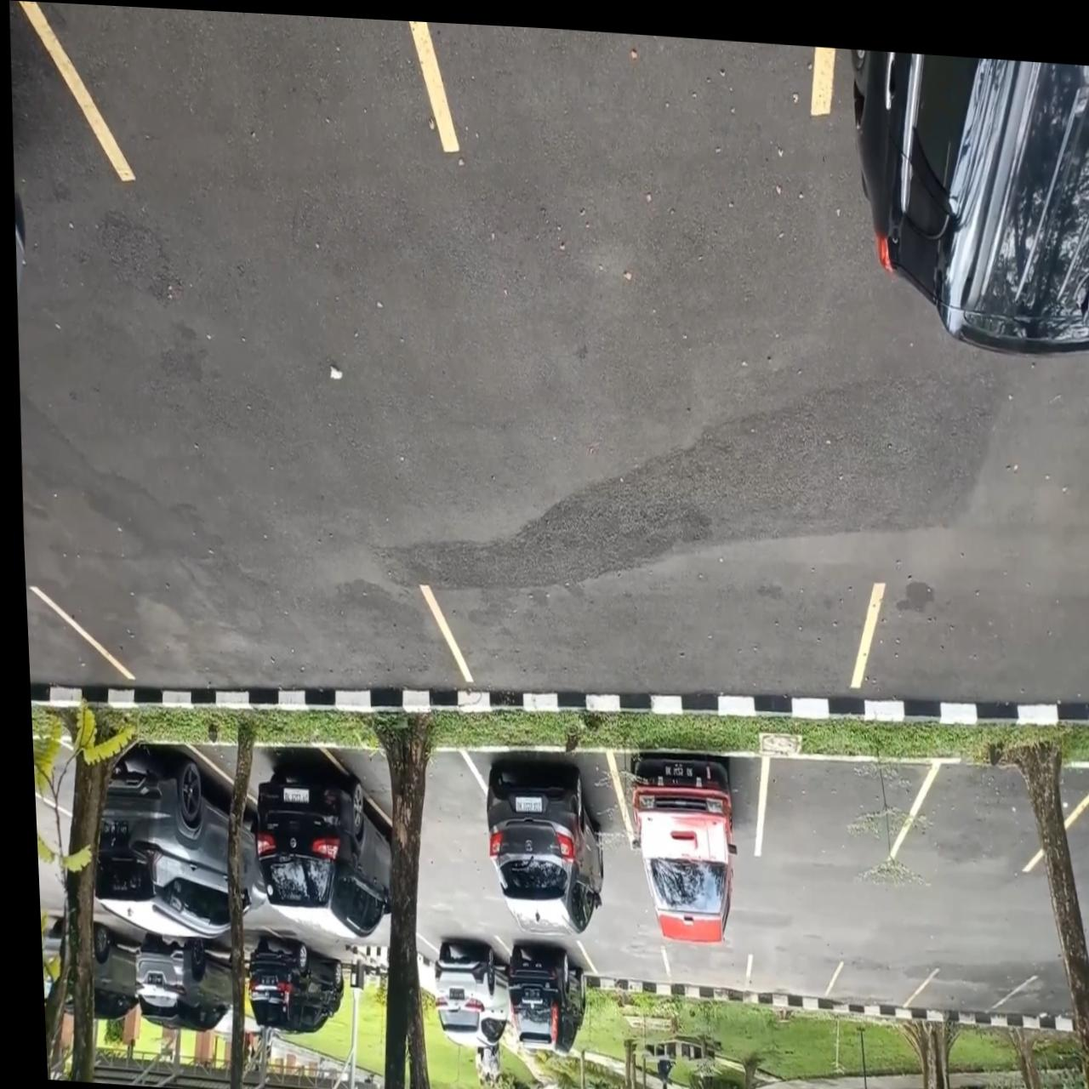cars: (182, 742, 410, 839), (457, 748, 639, 853), (606, 748, 772, 857), (493, 935, 602, 983), (413, 933, 524, 970)
empty: (18, 1, 461, 182), (421, 583, 886, 705), (410, 21, 837, 151), (26, 584, 482, 697), (888, 758, 1089, 871), (753, 751, 943, 865), (316, 744, 519, 841), (898, 969, 1037, 1018), (821, 962, 939, 1013), (981, 975, 1089, 1023), (743, 954, 845, 1004), (575, 940, 673, 987), (660, 948, 754, 997)
